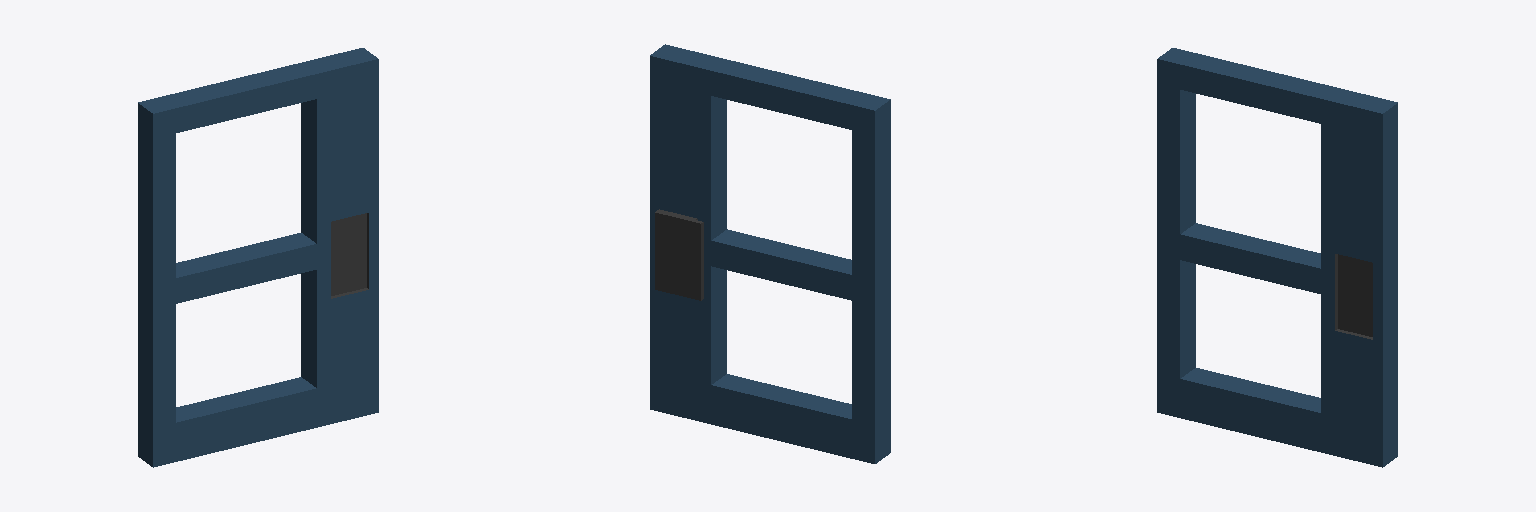
The model's file is GasStationDoor.obj.
3 renders of one model, left to right at view 1: azimuth 30°, elevation 25°; view 2: azimuth 150°, elevation 25°; view 3: azimuth 330°, elevation 25°, orthographic.
Parts seen in each view (by area): view 1: Cube.001; view 2: Cube.001; view 3: Cube.001.
Boxes of the visible parts, box(x1,y1,x2,y2) form: Cube.001: box(138, 48, 378, 467); Cube.001: box(650, 44, 890, 463); Cube.001: box(1157, 48, 1397, 467).
Bounding box in the file's own units: 2.34 × 3.5 × 0.3562.